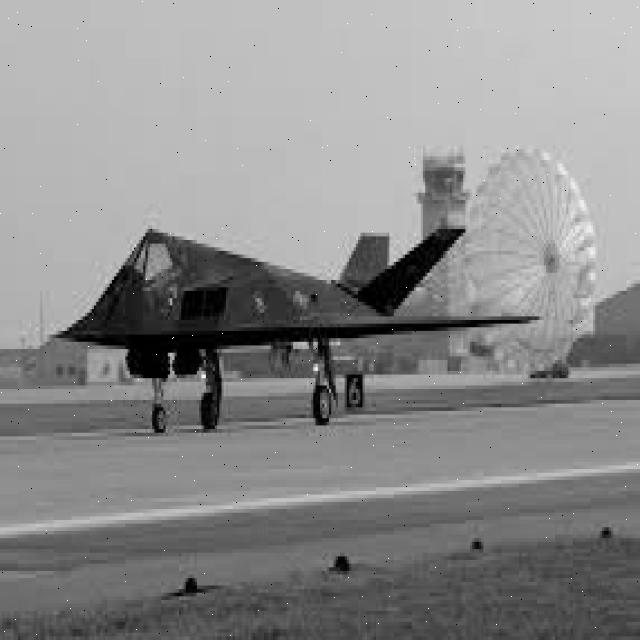F117: (21, 126, 558, 484)
